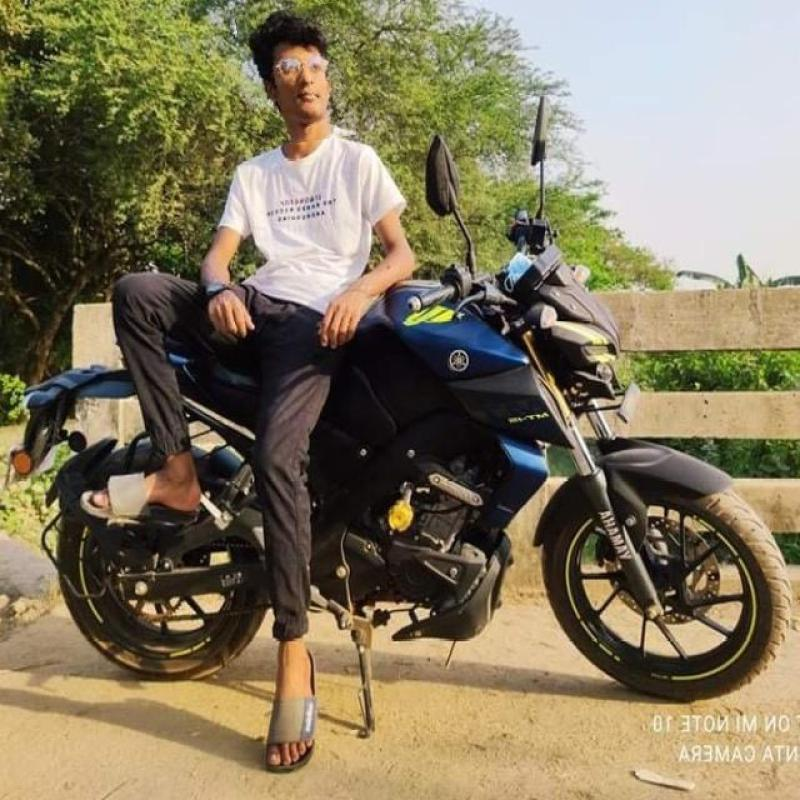nohelmet: (239, 6, 352, 146)
